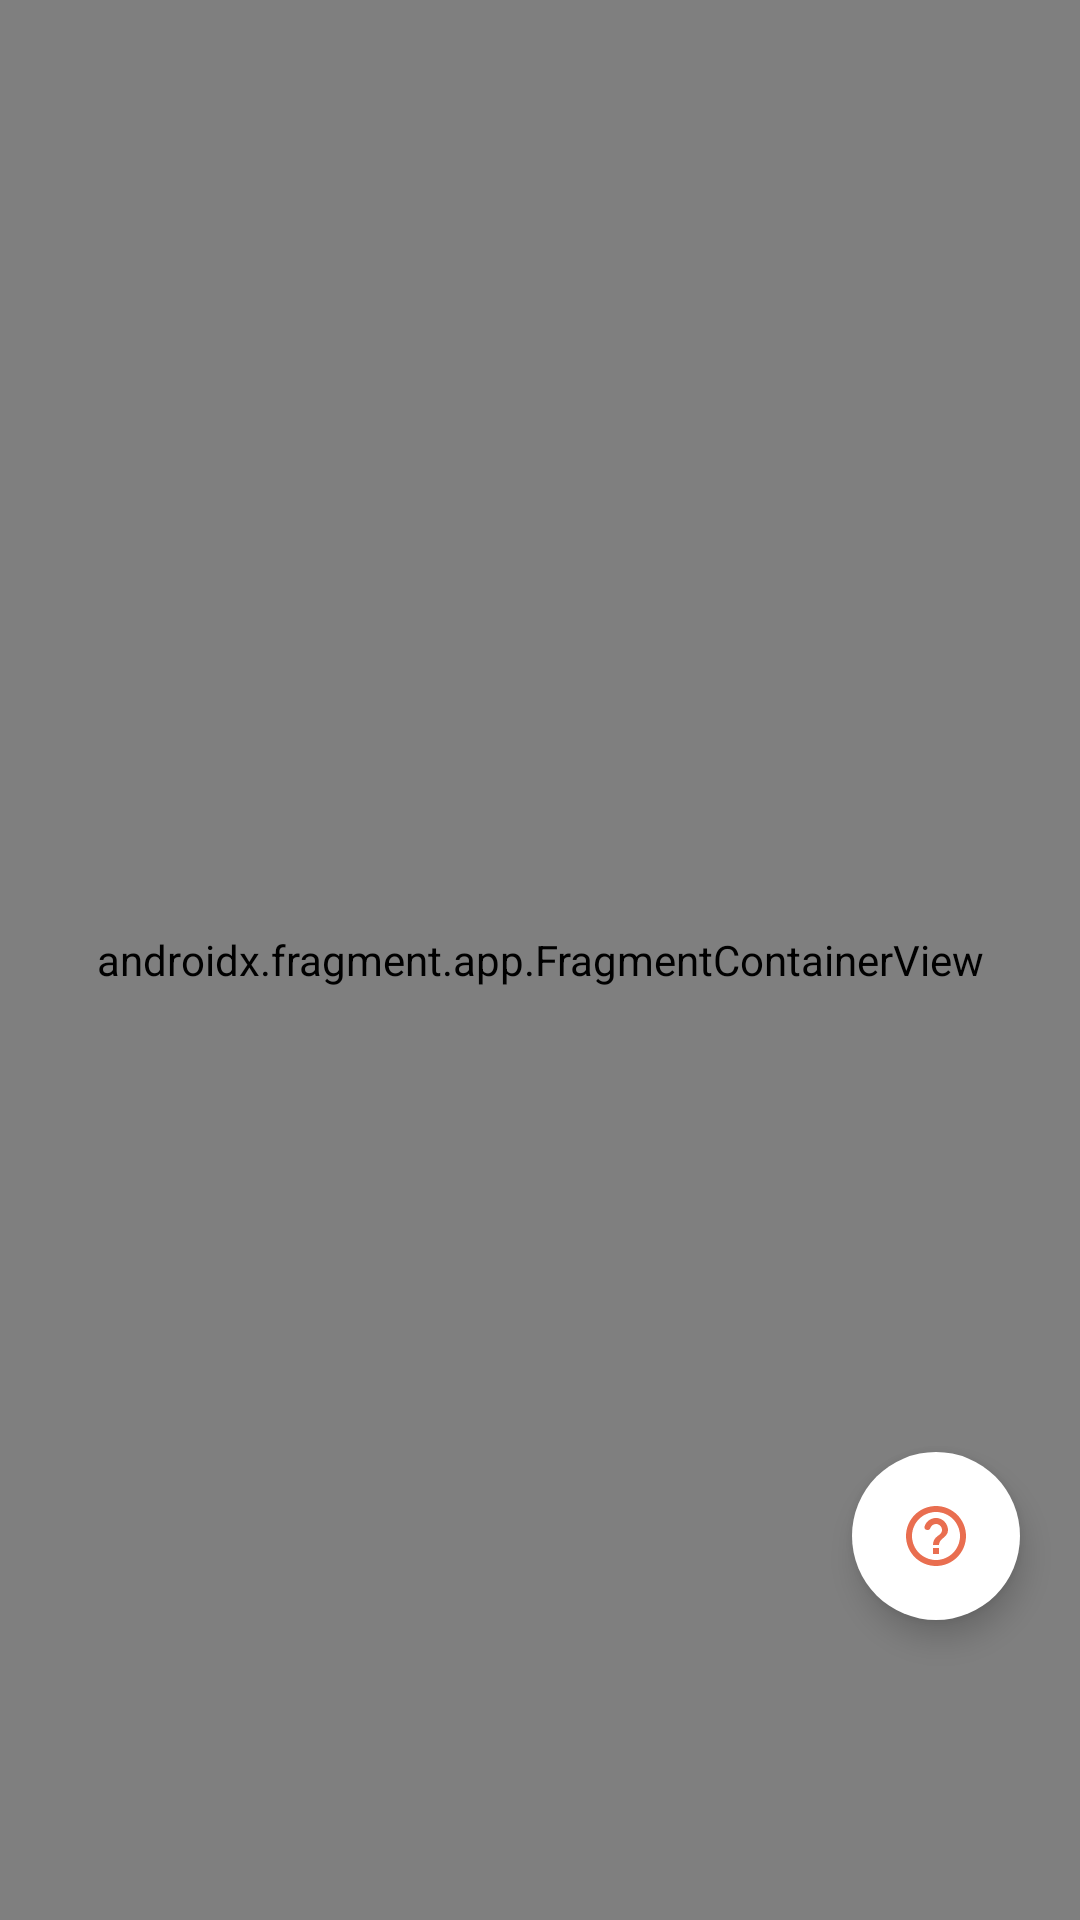

Screen size 1080x1920. Icon name, then its center in pixels as [x,y]:
help: [936,1536]
